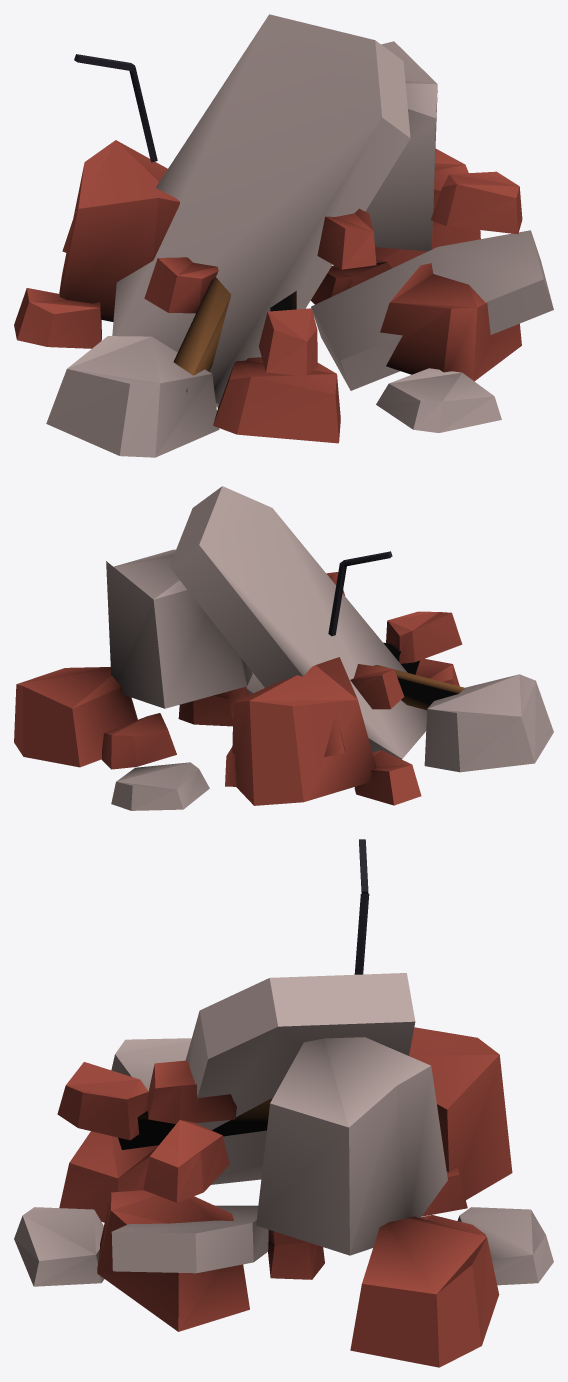
Rendered from decay.rubble-pile.lod1.glb.
3 renders of one model, top to bottom at view 1: azimuth 30°, elevation 25°; view 2: azimuth 150°, elevation 25°; view 3: azimuth 270°, elevation 25°, orthographic. The views are drawn at different scales.
Visible parts, largest first — view 1: body; view 2: body; view 3: body.
Boxes of the visible parts, box(x1,y1,x2,y2) form: body: box(14, 14, 553, 457); body: box(14, 486, 553, 810); body: box(14, 839, 553, 1367).
Size of the model in its own units: 2.35 by 1.31 by 2.03.
